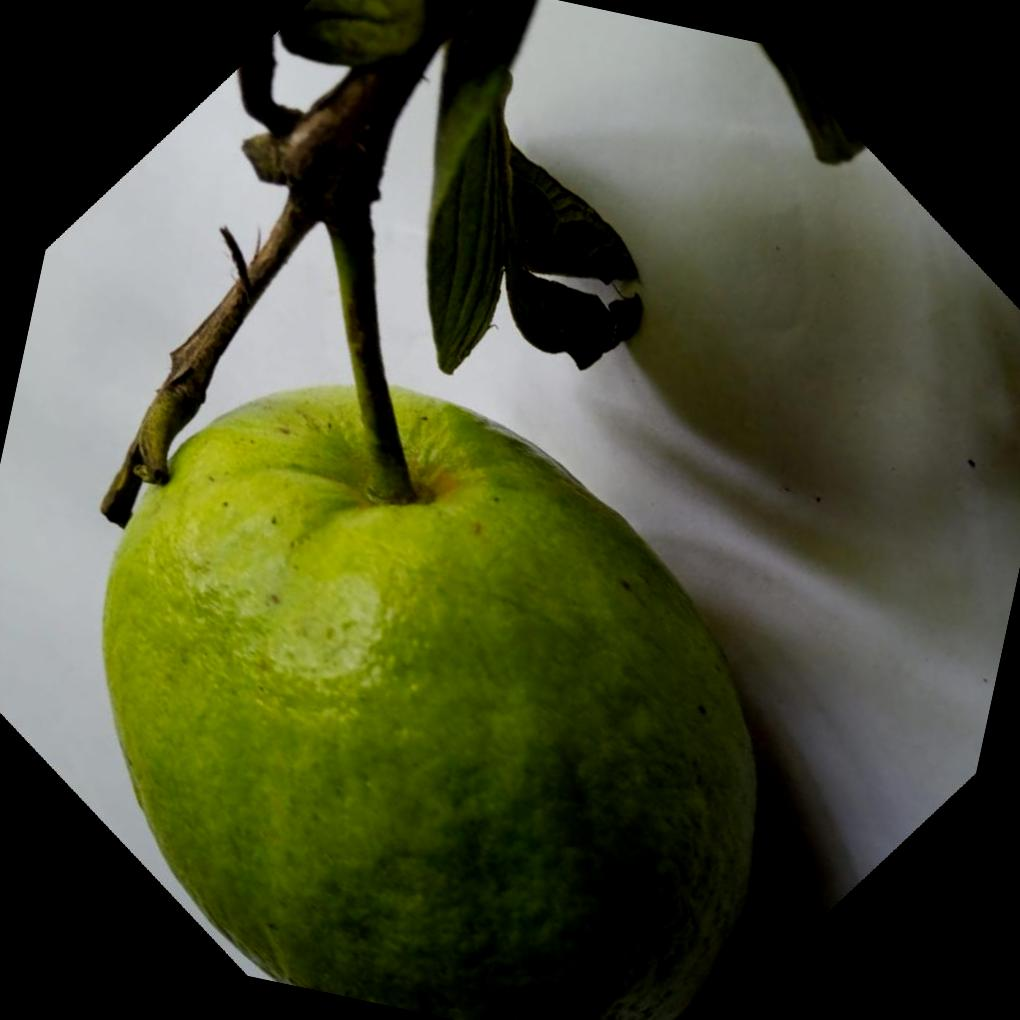FreshGuava: (98, 253, 758, 1020)
